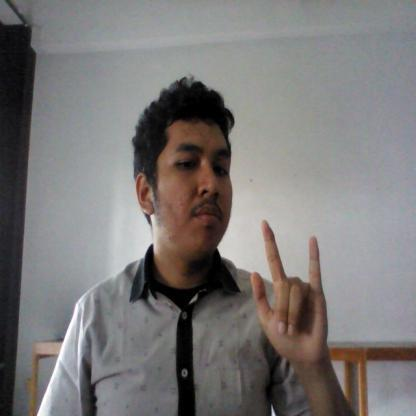ILoveYou: (244, 218, 330, 368)
